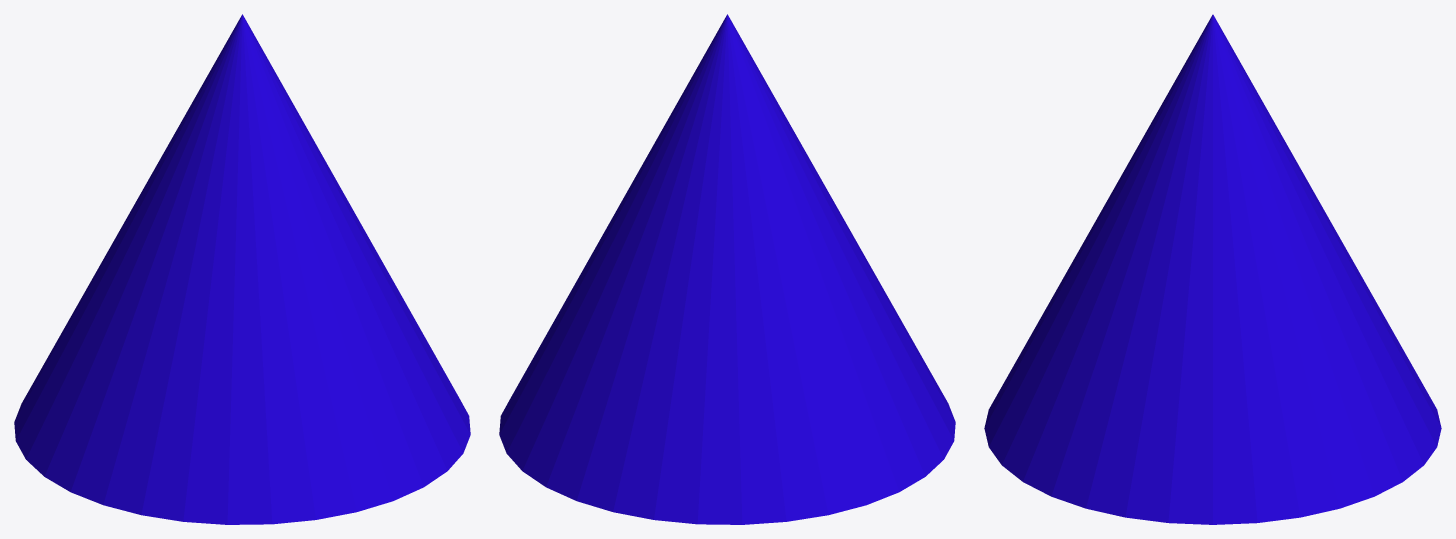
File: davidConeDef.gltf
3 views of the same model, side by side, from view 1: azimuth 30°, elevation 25°; view 2: azimuth 150°, elevation 25°; view 3: azimuth 270°, elevation 25° (orthographic).
Parts seen in each view (by area): view 1: davidConeDef; view 2: davidConeDef; view 3: davidConeDef.
Boxes of the visible parts, bbox=[...] form: davidConeDef: bbox=[14, 14, 470, 524]; davidConeDef: bbox=[499, 14, 955, 524]; davidConeDef: bbox=[984, 14, 1441, 524].
Bounding box in the file's own units: 2 × 2 × 2.
